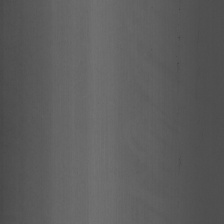inclusion: (176, 32, 181, 77)
